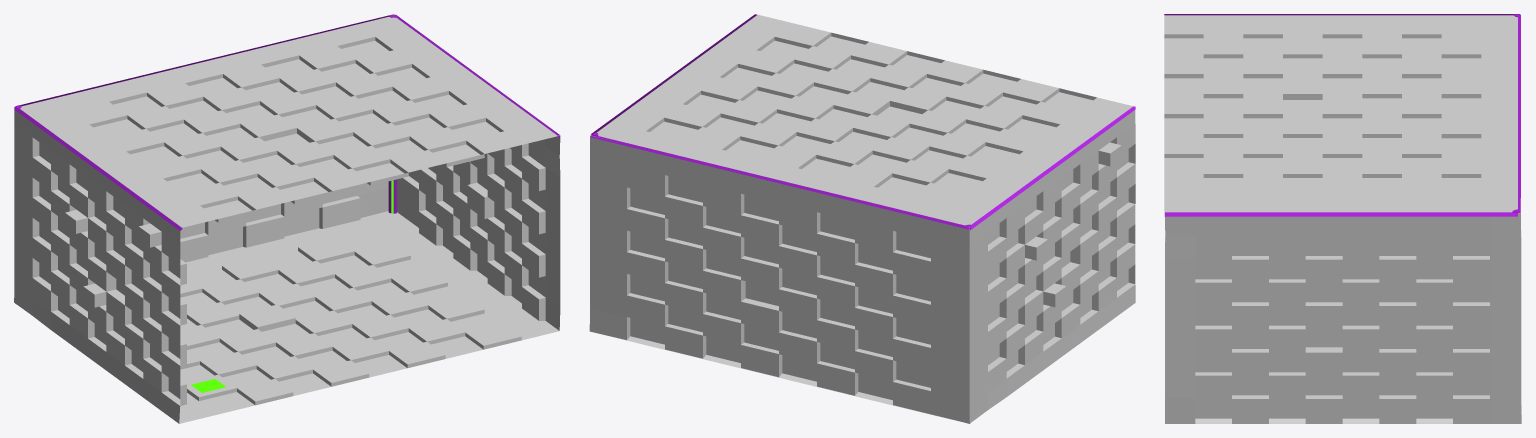
The model's file is Chamber.glb.
3 views of the same model, side by side, from view 1: azimuth 30°, elevation 25°; view 2: azimuth 150°, elevation 25°; view 3: azimuth 270°, elevation 25° (orthographic). The views are drawn at different scales.
Parts seen in each view (by area): view 1: Grid; view 2: Grid; view 3: Grid.
Part boxes in pixels (box(x1,y1,x2,y2)): Grid: box(14, 14, 560, 423); Grid: box(589, 14, 1135, 423); Grid: box(1164, 14, 1521, 423).
Size of the model in its own units: 25.87 by 12.52 by 19.17.
